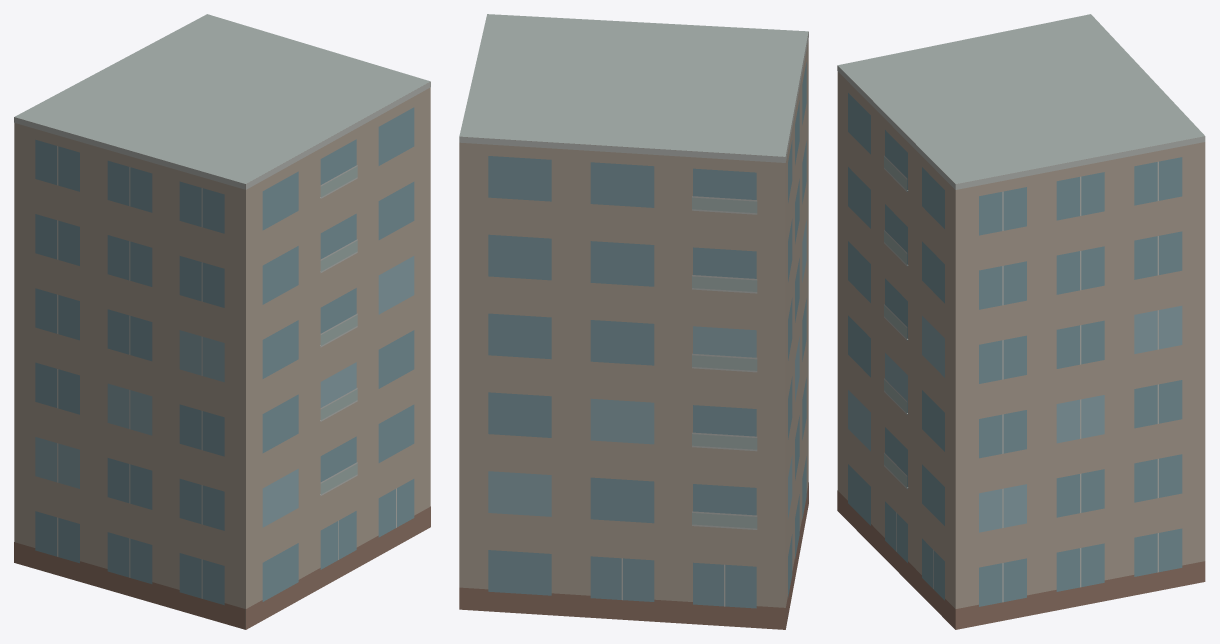
Rendered from survey-upis-32744148.glb.
3 renders of one model, left to right at view 1: azimuth 30°, elevation 25°; view 2: azimuth 150°, elevation 25°; view 3: azimuth 270°, elevation 25°, orthographic. The views are drawn at different scales.
Parts seen in each view (by area): view 1: survey-upis-32744148.tmp; view 2: survey-upis-32744148.tmp; view 3: survey-upis-32744148.tmp.
Boxes of the visible parts, x1=… form: survey-upis-32744148.tmp: x1=14, y1=14, x2=430, y2=629; survey-upis-32744148.tmp: x1=459, y1=14, x2=808, y2=629; survey-upis-32744148.tmp: x1=837, y1=14, x2=1205, y2=629.
Size of the model in its own units: 15.44 by 18.83 by 14.1.
